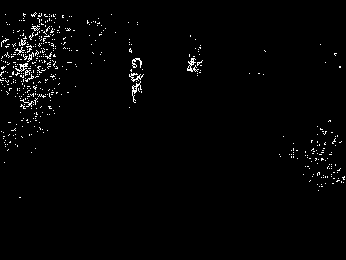person: (127, 56, 145, 104)
